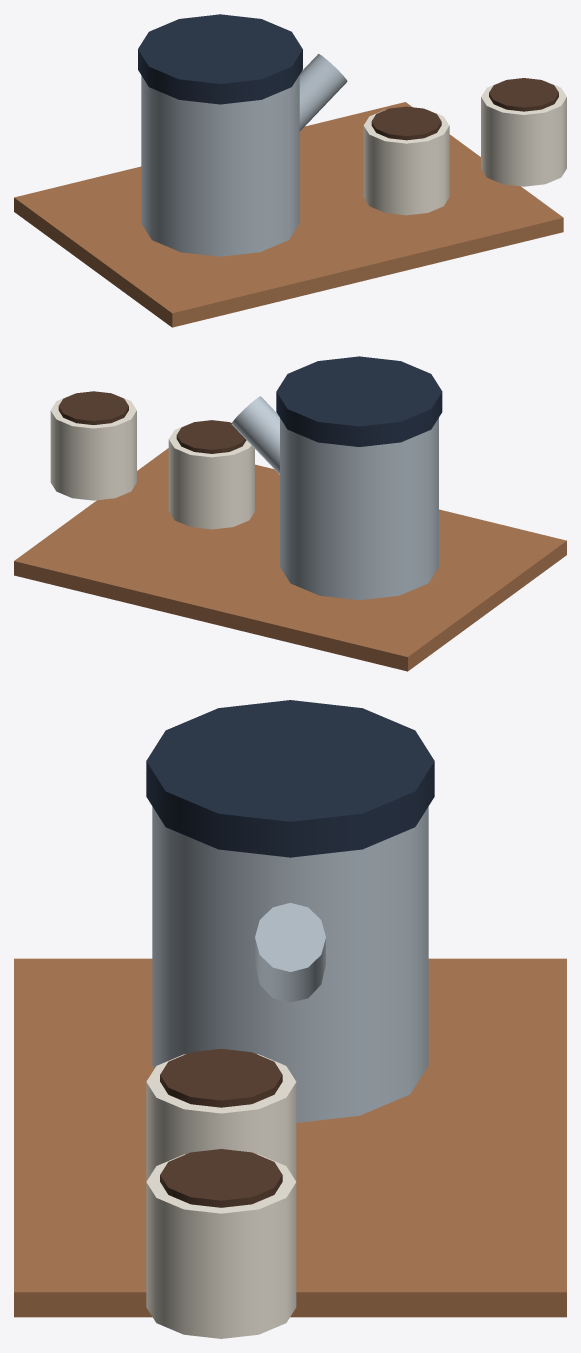
File: officeCoffeeSet.glb
The picture shows the model from 3 angles, top to bottom: view 1: azimuth 30°, elevation 25°; view 2: azimuth 150°, elevation 25°; view 3: azimuth 270°, elevation 25°; orthographic projection. The views are drawn at different scales.
Bounding box in the file's own units: 0.458 × 0.185 × 0.28.
